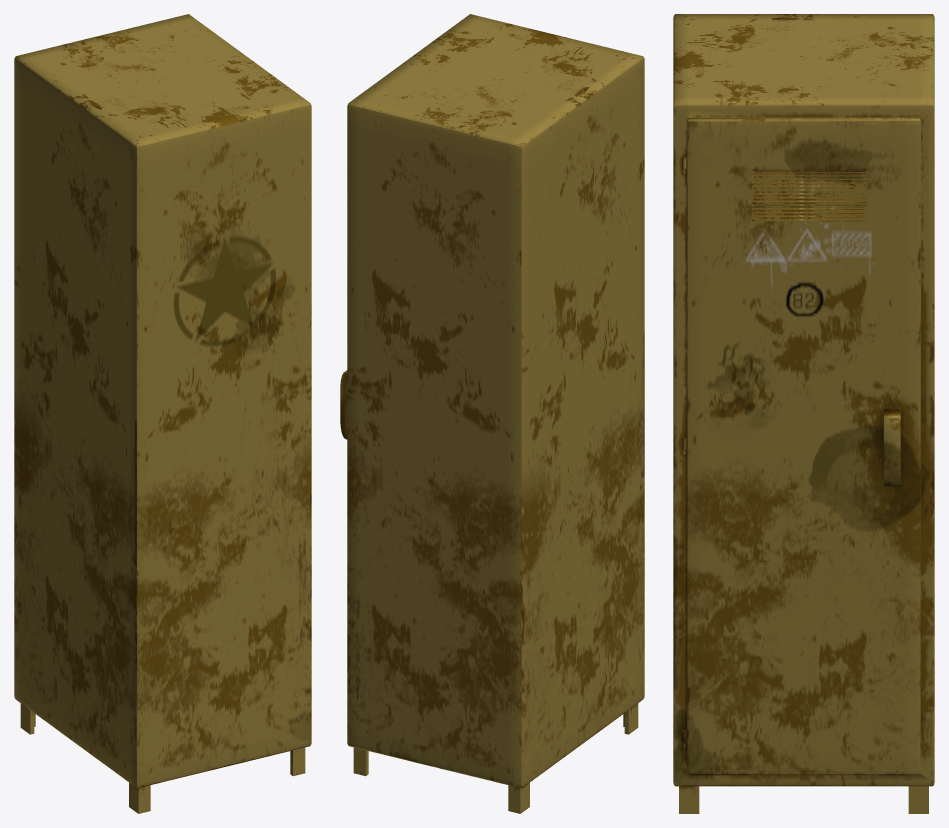
Rendered from locker.glb.
The picture shows the model from 3 angles, left to right: view 1: azimuth 30°, elevation 25°; view 2: azimuth 150°, elevation 25°; view 3: azimuth 270°, elevation 25°; orthographic projection. The views are drawn at different scales.
Parts seen in each view (by area): view 1: locker_0; view 2: locker_0; view 3: locker_0.
Part boxes in pixels (box(x1,y1,x2,y2)): locker_0: box(14, 14, 311, 813); locker_0: box(340, 14, 644, 813); locker_0: box(673, 14, 934, 813).
Bounding box in the file's own units: 0.5684 × 1.84 × 0.6122.
Materials: 1 (1 with a texture image).
